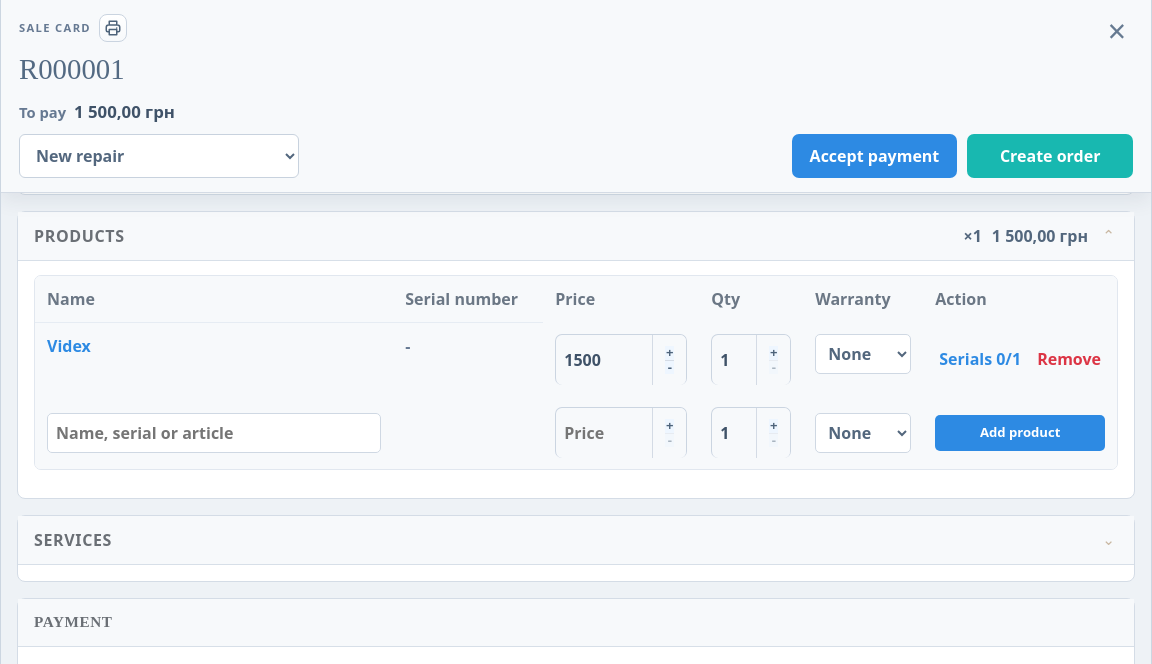
it: OrderDetailCard product entry › renders retail/wholesale toggles in the price column header when editing an existing line item
Focus the field showing "1500" at (604, 360), box [556, 335, 652, 385]
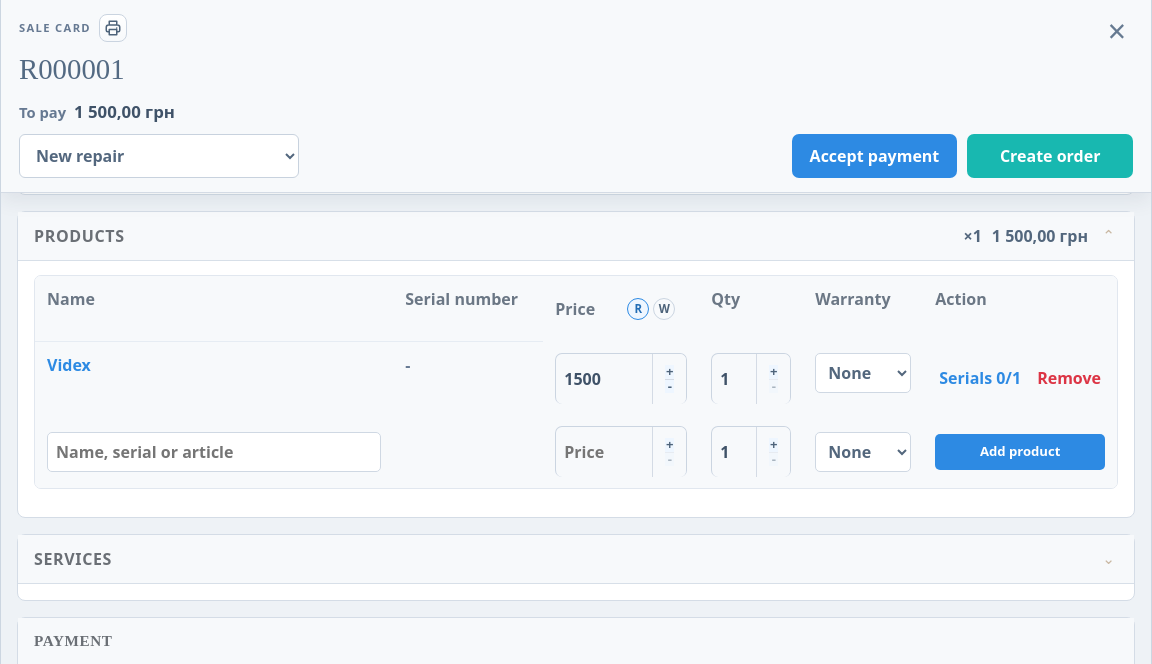
Result: the element showing "R W" is shown at [615, 287, 687, 331]
